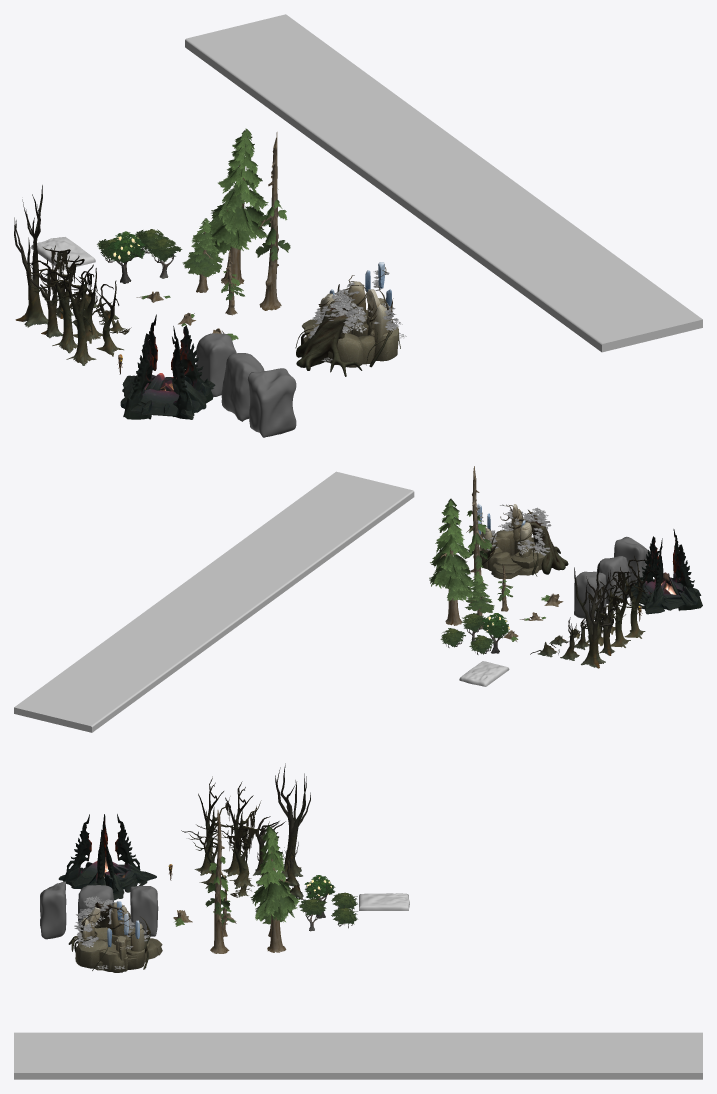
Rendered from stone.fbx.
3 views of the same model, one above another, from view 1: azimuth 30°, elevation 25°; view 2: azimuth 150°, elevation 25°; view 3: azimuth 270°, elevation 25° (orthographic). The views are drawn at different scales.
Parts seen in each view (by area): view 1: Куб.002, radiant_ancient001.vmdl_c.radiant_ancient001, bad_ancient002_sfm.vmdl_c.bad_ancient002_sfm_model, tree_pine_01.vmdl_c.tree_pine_01_inspector, cum3, tree_pine_03b.vmdl_c.tree_pine_03b_inspector, cum, dire_tree007.vmdl_c.dire_tree007_inspector, dire_tree004.vmdl_c.dire_tree004_inspector, cum2, tree_pine_02.vmdl_c.tree_pine_02_model, dire_tree008.vmdl_c.dire_tree008_inspector (+6 smaller); view 2: Куб.002, radiant_ancient001.vmdl_c.radiant_ancient001, bad_ancient002_sfm.vmdl_c.bad_ancient002_sfm_model, tree_pine_01.vmdl_c.tree_pine_01_inspector, dire_tree004.vmdl_c.dire_tree004_inspector, cum2, tree_pine_03b.vmdl_c.tree_pine_03b_inspector, dire_tree007.vmdl_c.dire_tree007_inspector, cum3, cum, Куб.001, dire_tree008.vmdl_c.dire_tree008_inspector (+4 smaller); view 3: Куб.002, radiant_ancient001.vmdl_c.radiant_ancient001, bad_ancient002_sfm.vmdl_c.bad_ancient002_sfm_model, tree_pine_01.vmdl_c.tree_pine_01_inspector, tree_pine_03b.vmdl_c.tree_pine_03b_inspector, cum3, dire_tree004.vmdl_c.dire_tree004_inspector, cum2, dire_tree007.vmdl_c.dire_tree007_inspector, Куб.001, dire_tree007.vmdl_c.dire_tree007_model, dire_tree008.vmdl_c.dire_tree008_inspector (+3 smaller).
Boxes of the visible parts, x1=… form: Куб.002: x1=185, y1=14, x2=702, y2=352; radiant_ancient001.vmdl_c.radiant_ancient001: x1=295, y1=262, x2=406, y2=376; bad_ancient002_sfm.vmdl_c.bad_ancient002_sfm_model: x1=120, y1=314, x2=215, y2=419; tree_pine_01.vmdl_c.tree_pine_01_inspector: x1=203, y1=128, x2=268, y2=285; cum3: x1=247, y1=368, x2=296, y2=437; tree_pine_03b.vmdl_c.tree_pine_03b_inspector: x1=255, y1=132, x2=290, y2=310; cum: x1=221, y1=353, x2=264, y2=421; dire_tree007.vmdl_c.dire_tree007_inspector: x1=26, y1=245, x2=79, y2=353; dire_tree004.vmdl_c.dire_tree004_inspector: x1=14, y1=185, x2=48, y2=327; cum2: x1=196, y1=333, x2=236, y2=396; tree_pine_02.vmdl_c.tree_pine_02_model: x1=182, y1=218, x2=223, y2=292; dire_tree008.vmdl_c.dire_tree008_inspector: x1=40, y1=256, x2=96, y2=365; Куб.002: x1=14, y1=471, x2=414, y2=732; radiant_ancient001.vmdl_c.radiant_ancient001: x1=477, y1=503, x2=568, y2=578; bad_ancient002_sfm.vmdl_c.bad_ancient002_sfm_model: x1=624, y1=529, x2=702, y2=614; tree_pine_01.vmdl_c.tree_pine_01_inspector: x1=429, y1=498, x2=473, y2=625; dire_tree004.vmdl_c.dire_tree004_inspector: x1=574, y1=561, x2=610, y2=668; cum2: x1=574, y1=571, x2=606, y2=619; tree_pine_03b.vmdl_c.tree_pine_03b_inspector: x1=464, y1=466, x2=492, y2=603; dire_tree007.vmdl_c.dire_tree007_inspector: x1=608, y1=567, x2=640, y2=647; cum3: x1=614, y1=536, x2=650, y2=584; cum: x1=596, y1=556, x2=630, y2=604; Куб.001: x1=459, y1=661, x2=509, y2=686; dire_tree008.vmdl_c.dire_tree008_inspector: x1=624, y1=555, x2=657, y2=638; Куб.002: x1=14, y1=1032, x2=702, y2=1079; radiant_ancient001.vmdl_c.radiant_ancient001: x1=68, y1=896, x2=162, y2=972; bad_ancient002_sfm.vmdl_c.bad_ancient002_sfm_model: x1=58, y1=814, x2=156, y2=900; tree_pine_01.vmdl_c.tree_pine_01_inspector: x1=250, y1=825, x2=300, y2=952; tree_pine_03b.vmdl_c.tree_pine_03b_inspector: x1=205, y1=810, x2=229, y2=953; cum3: x1=40, y1=881, x2=66, y2=939; dire_tree004.vmdl_c.dire_tree004_inspector: x1=275, y1=763, x2=310, y2=877; cum2: x1=130, y1=885, x2=158, y2=936; dire_tree007.vmdl_c.dire_tree007_inspector: x1=222, y1=781, x2=269, y2=876; Куб.001: x1=359, y1=893, x2=409, y2=910; dire_tree007.vmdl_c.dire_tree007_model: x1=217, y1=824, x2=254, y2=888; dire_tree008.vmdl_c.dire_tree008_inspector: x1=194, y1=776, x2=233, y2=875.
Size of the model in its own units: 7470 by 2676 by 10000.
